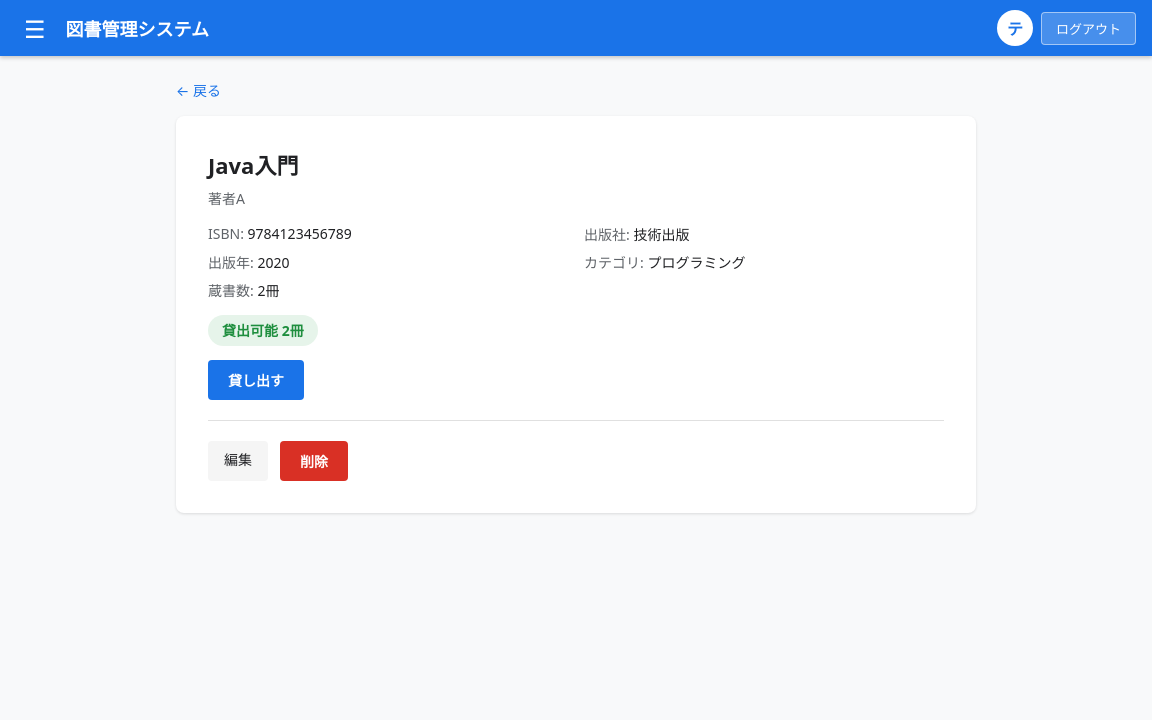
Test: BookDetailPage › closes confirm dialog when cancel is clicked
Expected: the heading "Java入門" is shown, [208,150,298,180]
Click the button "削除".
click(314, 461)  # box [280,441,348,481]
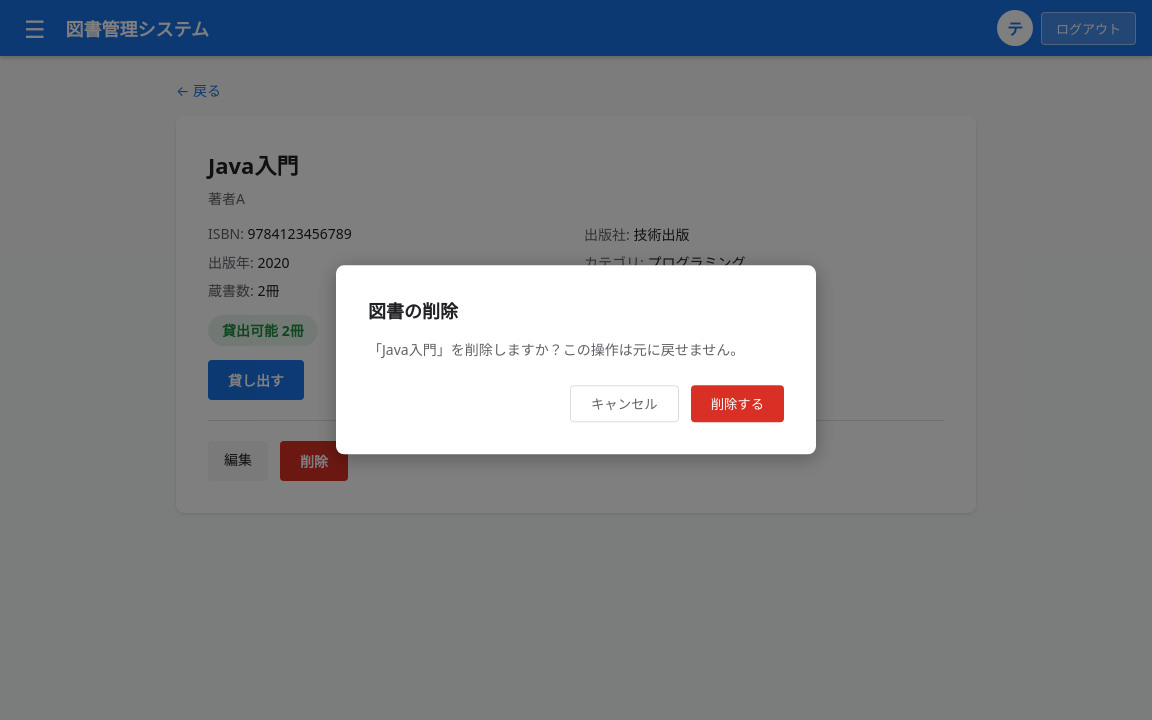
Expected: the heading "図書の削除" is shown, [368,299,458,323]
Click the button "キャンセル".
click(624, 404)  # box [570,386,679,423]
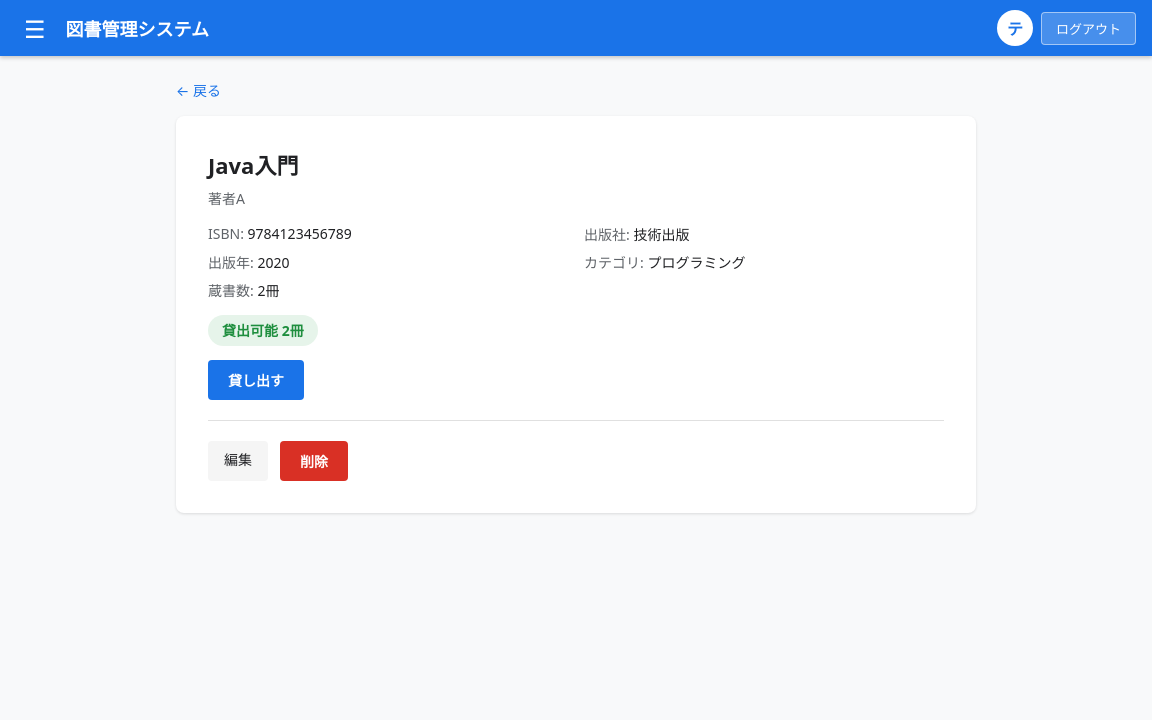
Expected: the heading "図書の削除" is gone
